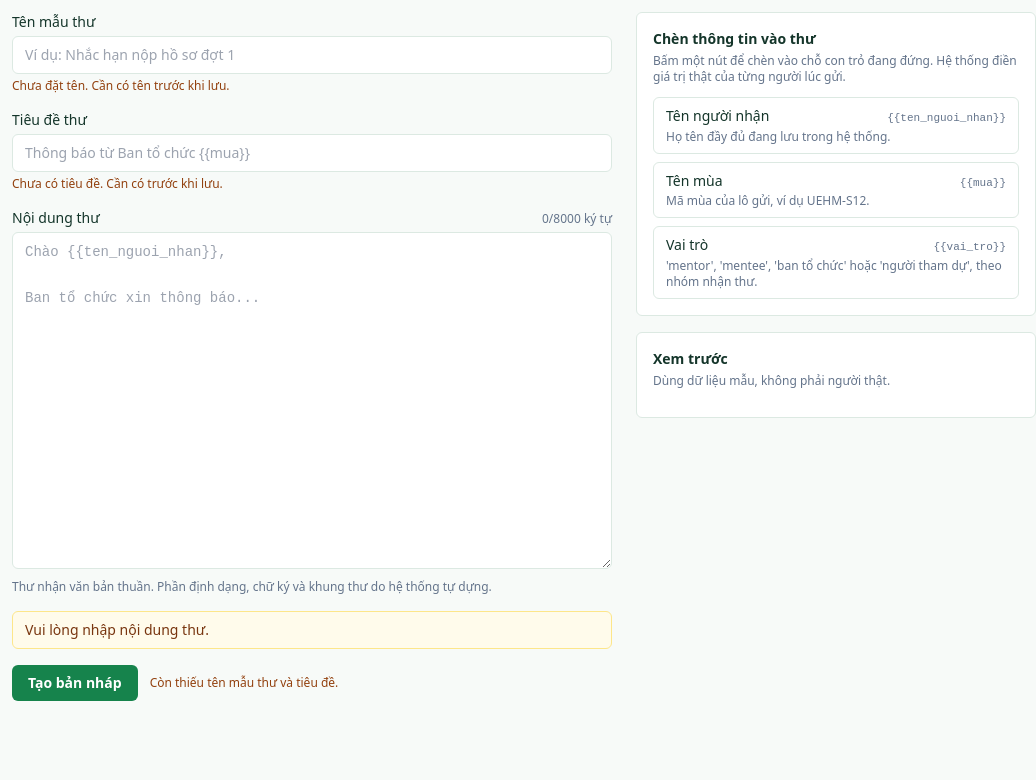
it: chèn vào đúng chỗ › quay lại thân thư khi người soạn quay lại thân thư
This screenshot has width=1036, height=780.
Step 1. Click the button "Tên mùa {{mua}} Mã mùa của lô gửi, ví dụ UEHM-S12." → coordinates (836, 190), box [653,162,1019,218]
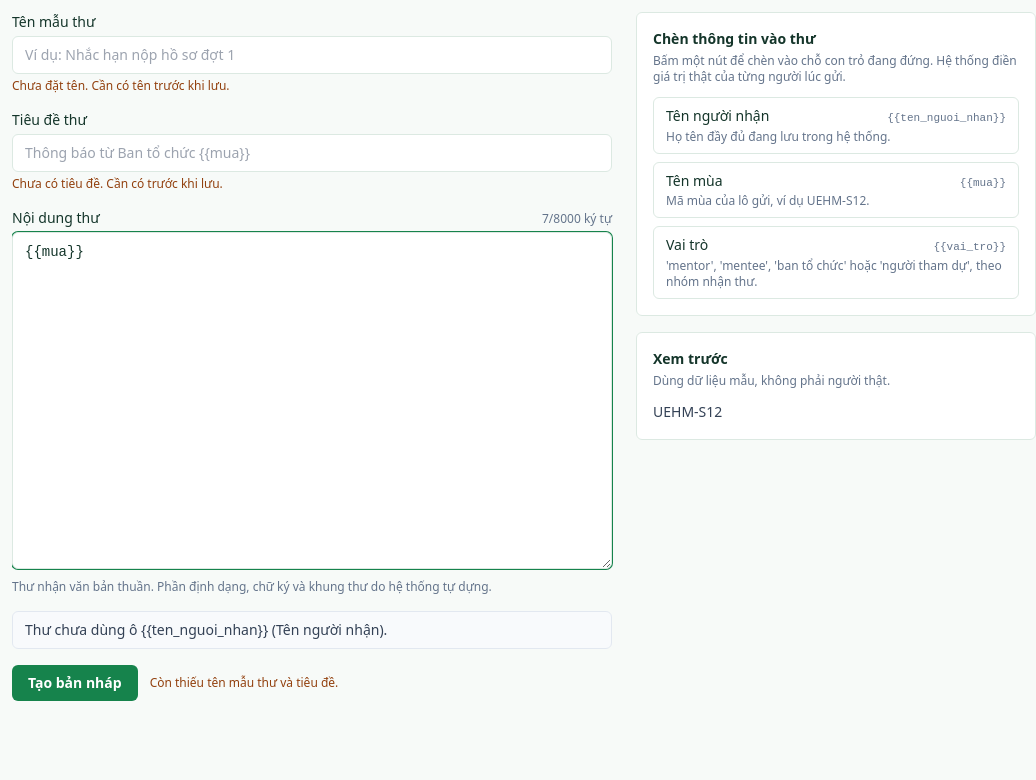
Expected: the field labelled "Tiêu đề thư" is empty, [12,134,612,172]
Expected: the text box labelled "Nội dung thư" holds "{{mua}}", [12,232,612,568]
